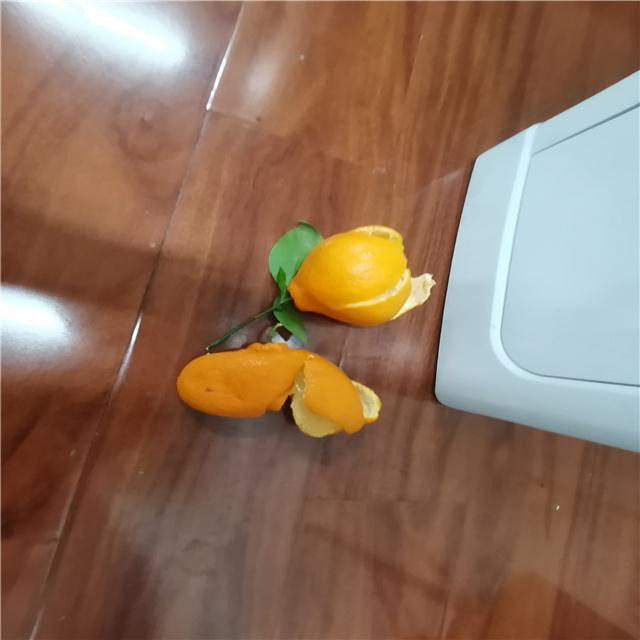orange-peel: (178, 340, 382, 440), (285, 224, 439, 329)
